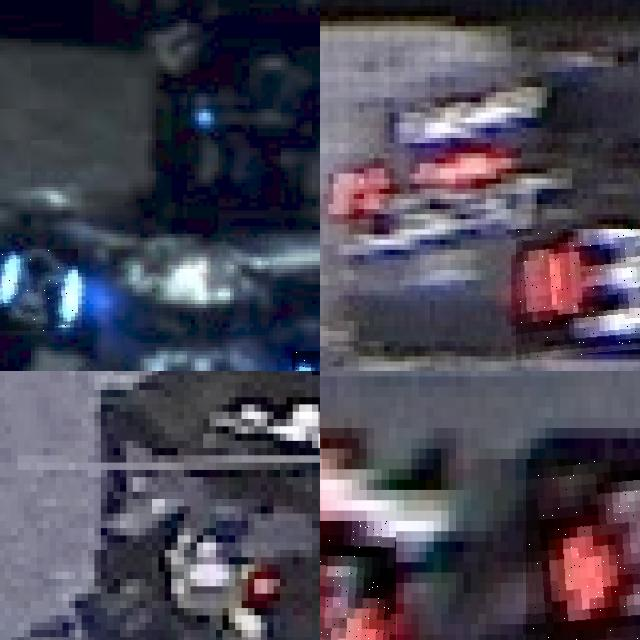Bs: (0, 249, 78, 331)
R3: (526, 459, 640, 640), (516, 229, 640, 361), (320, 521, 396, 640)
